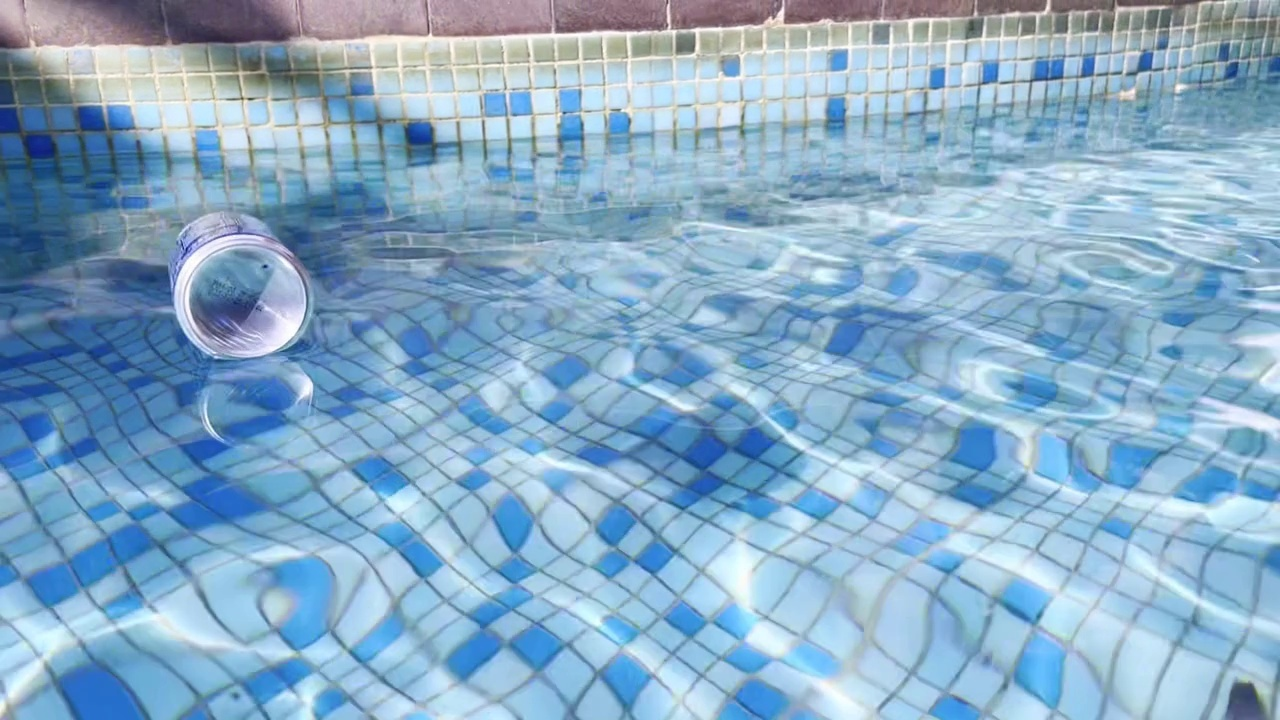debris: (143, 207, 326, 366)
